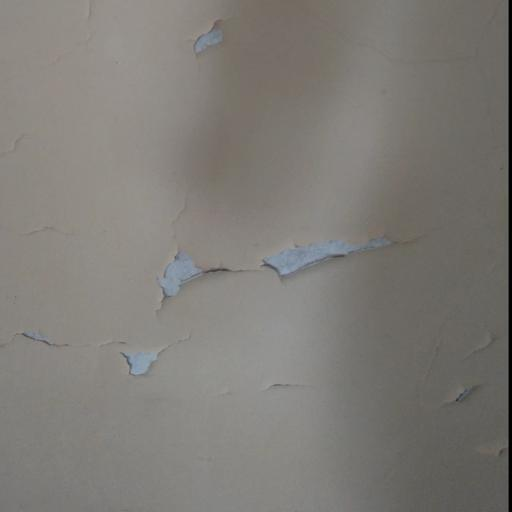peeling: (134, 175, 438, 331), (12, 306, 193, 384), (430, 312, 512, 477), (184, 13, 239, 67), (260, 359, 330, 400)
